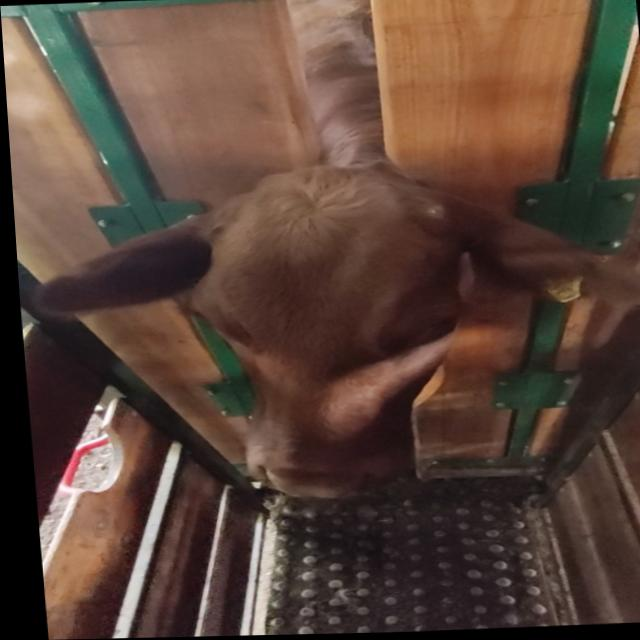cowFace: (169, 166, 474, 503)
